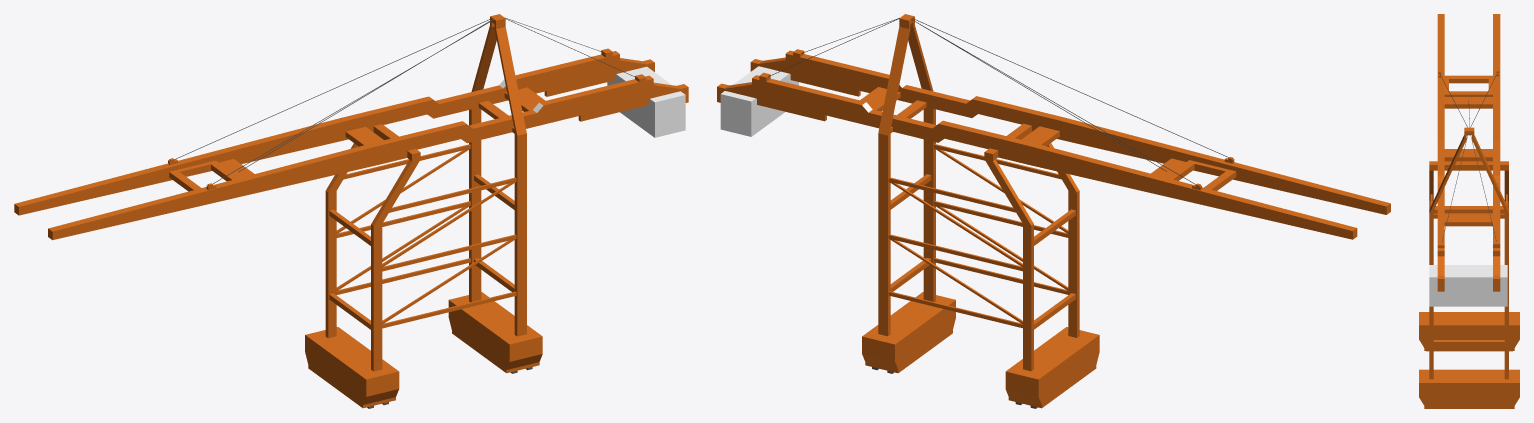
The model's file is crane.FBX.
3 renders of one model, left to right at view 1: azimuth 30°, elevation 25°; view 2: azimuth 150°, elevation 25°; view 3: azimuth 270°, elevation 25°, orthographic. The views are drawn at different scales.
Parts seen in each view (by area): view 1: Layer0_001; view 2: Layer0_001; view 3: Layer0_001.
Part boxes in pixels (x1,y1,x2,y2): Layer0_001: [14, 14, 688, 408]; Layer0_001: [717, 14, 1390, 408]; Layer0_001: [1419, 14, 1519, 408].
Size of the model in its own units: 4092 by 680 by 2058.
